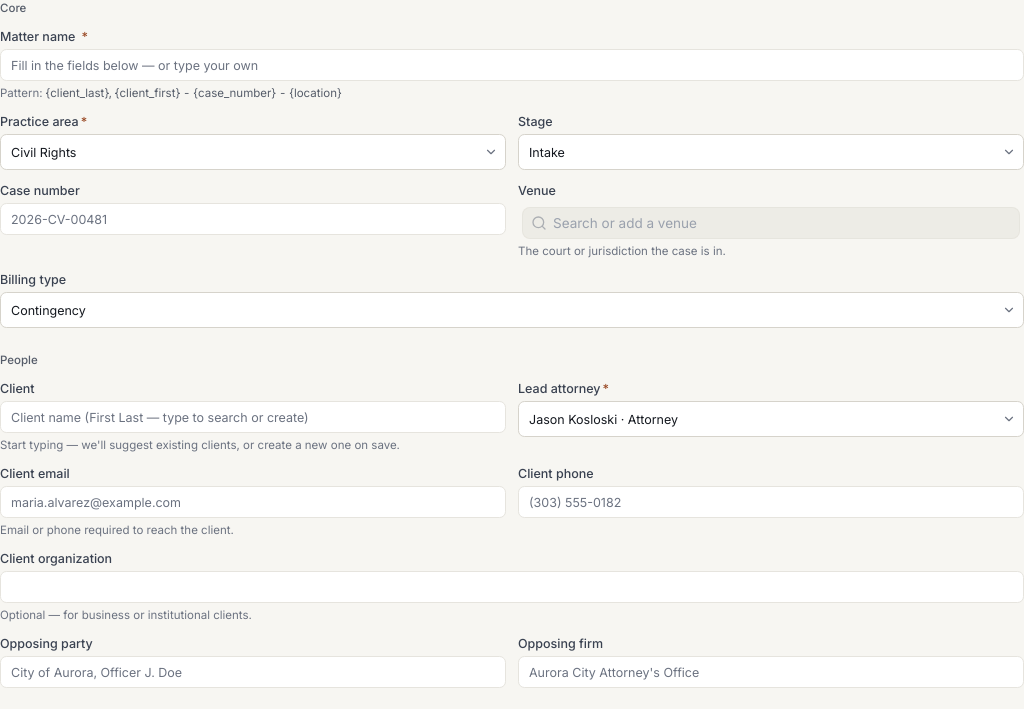
Test: NewMatterForm — client picker › keyboard: arrows highlight, Enter picks without submitting, Escape closes
Step 1. Type "Maria" into the dropdown with placeholder "Client name (First Last — type to search or create)" → (253,417), box [0,401,506,433]
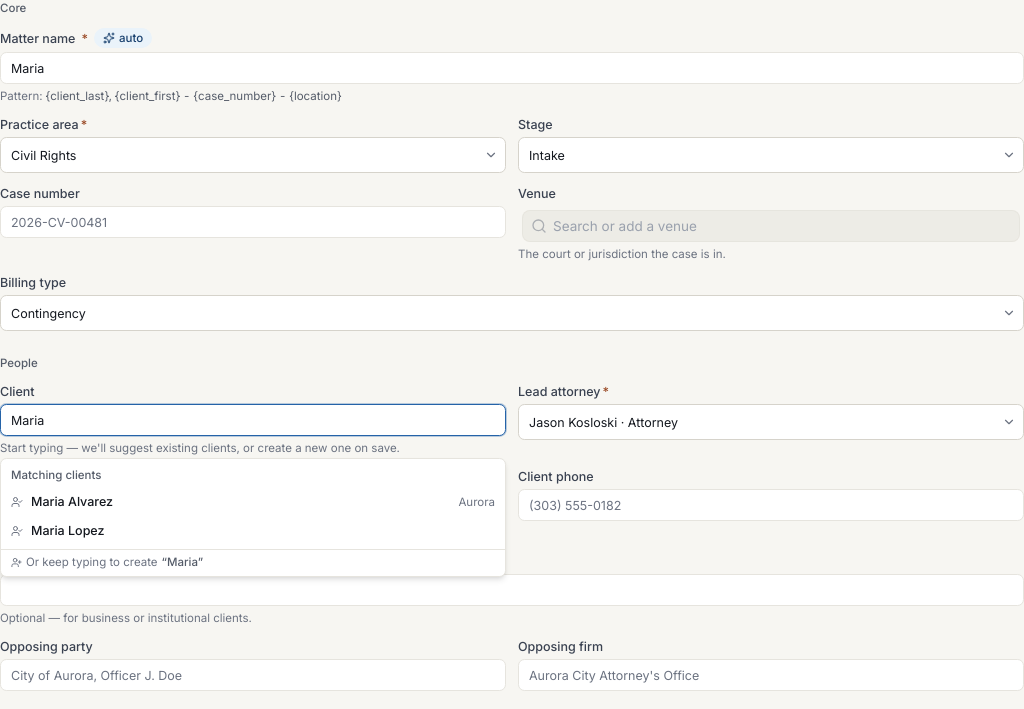
Expected: the dropdown with placeholder "Client name (First Last — type to search or create)" is expanded, [0,404,506,436]
Step 2. Press Arrowdown Arrowdown
Step 3. Press Enter
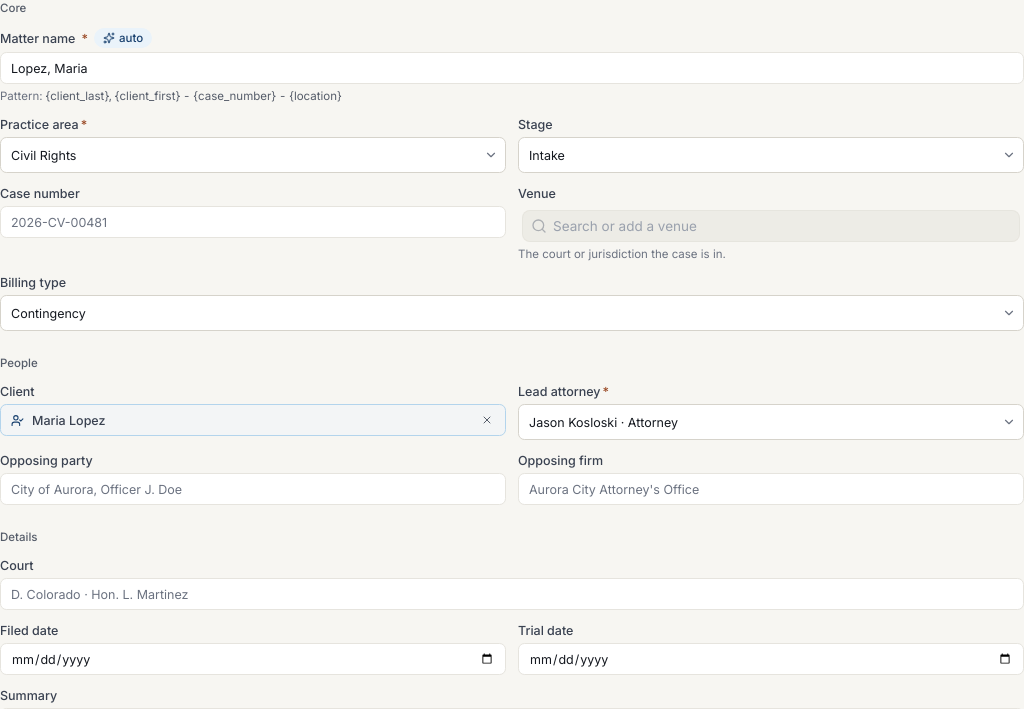
Note: Escape closes the list without picking.
Step 4. Click the button named "unlink client" → (487,420), box [479,412,495,428]
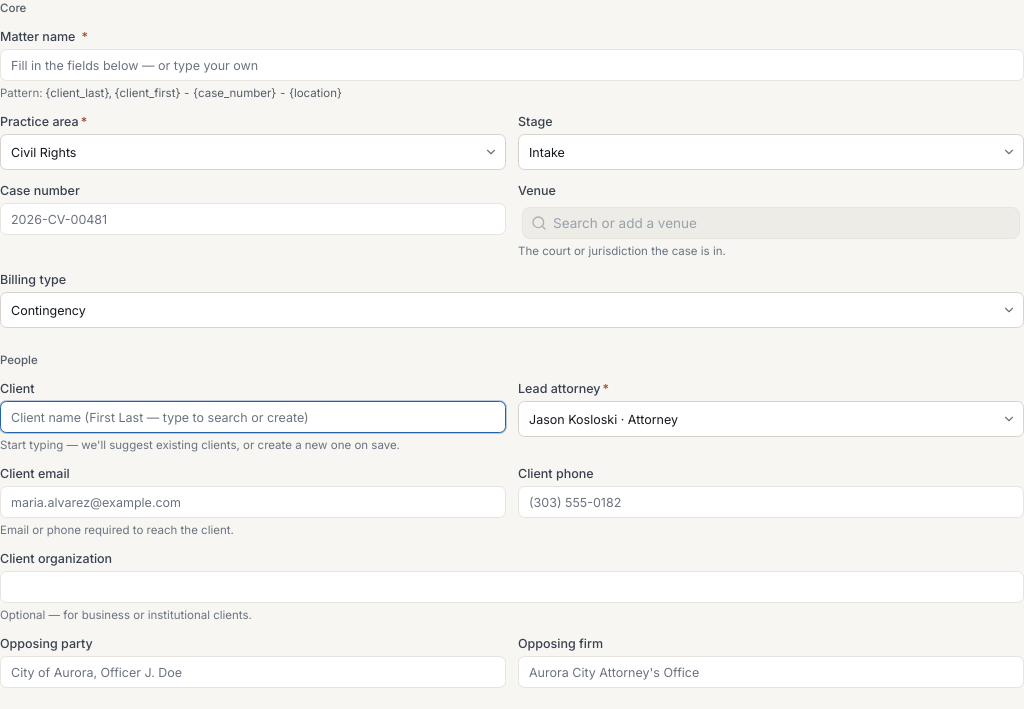
Step 5. Type "Maria" into the dropdown with placeholder "Client name (First Last — type to search or create)" → (253,417), box [0,401,506,433]
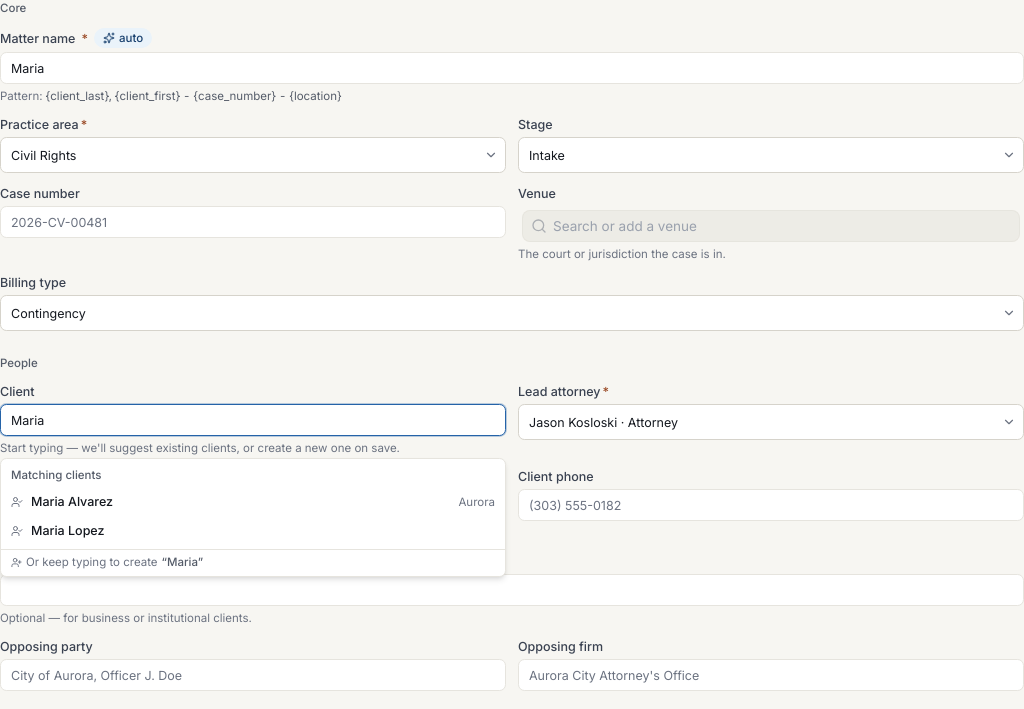
Step 6. Press Escape
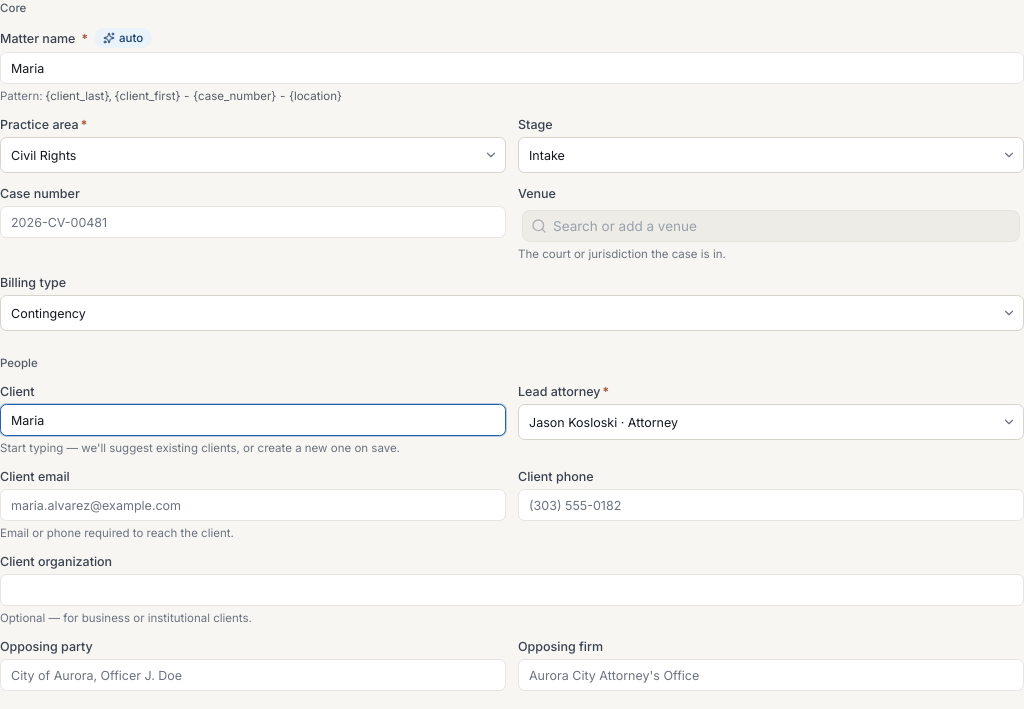
Expected: the list is gone
